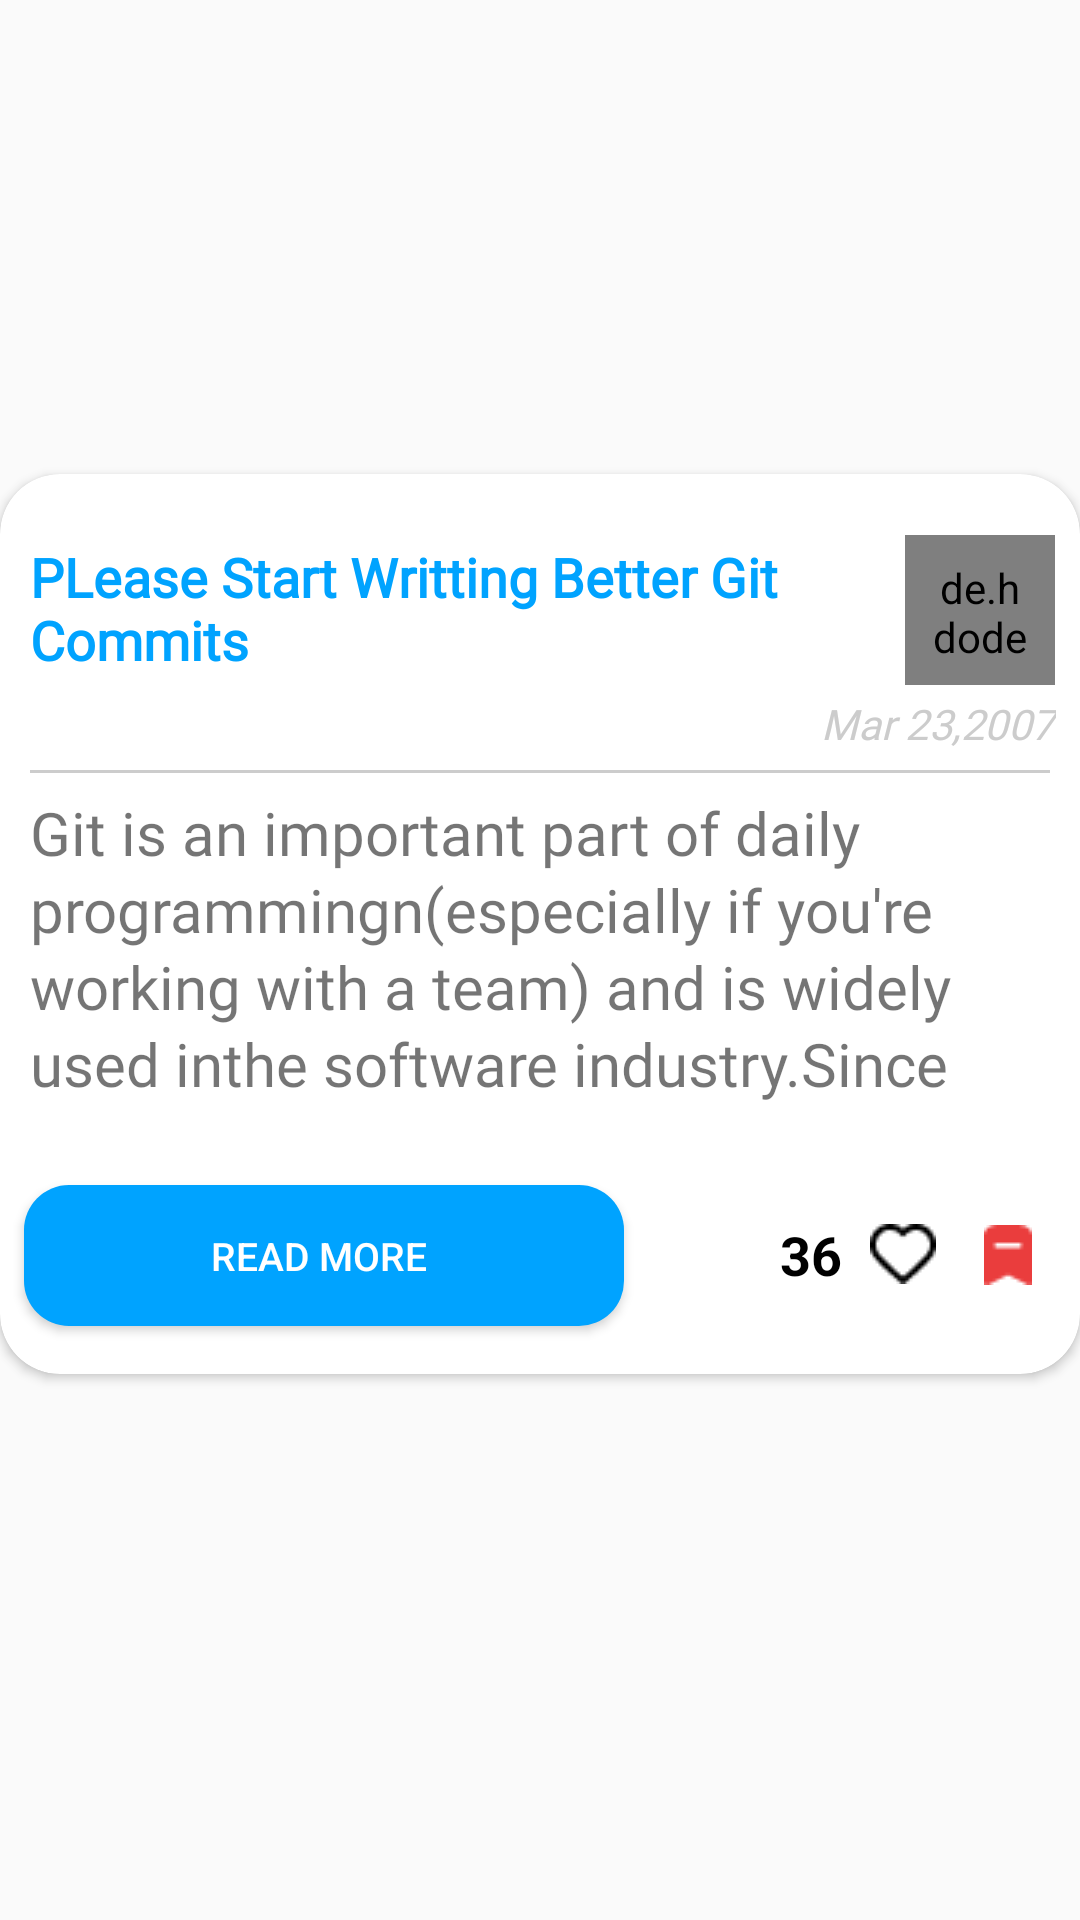

Locate icon controls on the screen. Image size 1080x1920, boxes as detection(x1, y1, x2, y2).
full save: detection(984, 1225, 1032, 1285)
